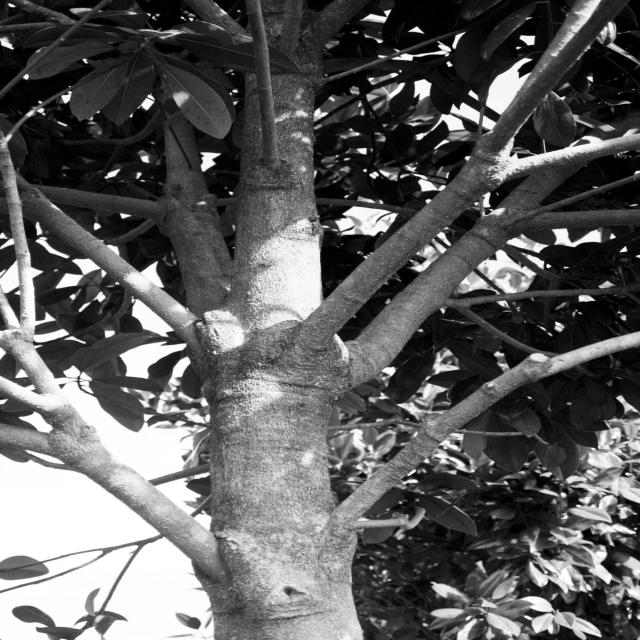Magnolia grandiflora: (3, 0, 640, 640)
